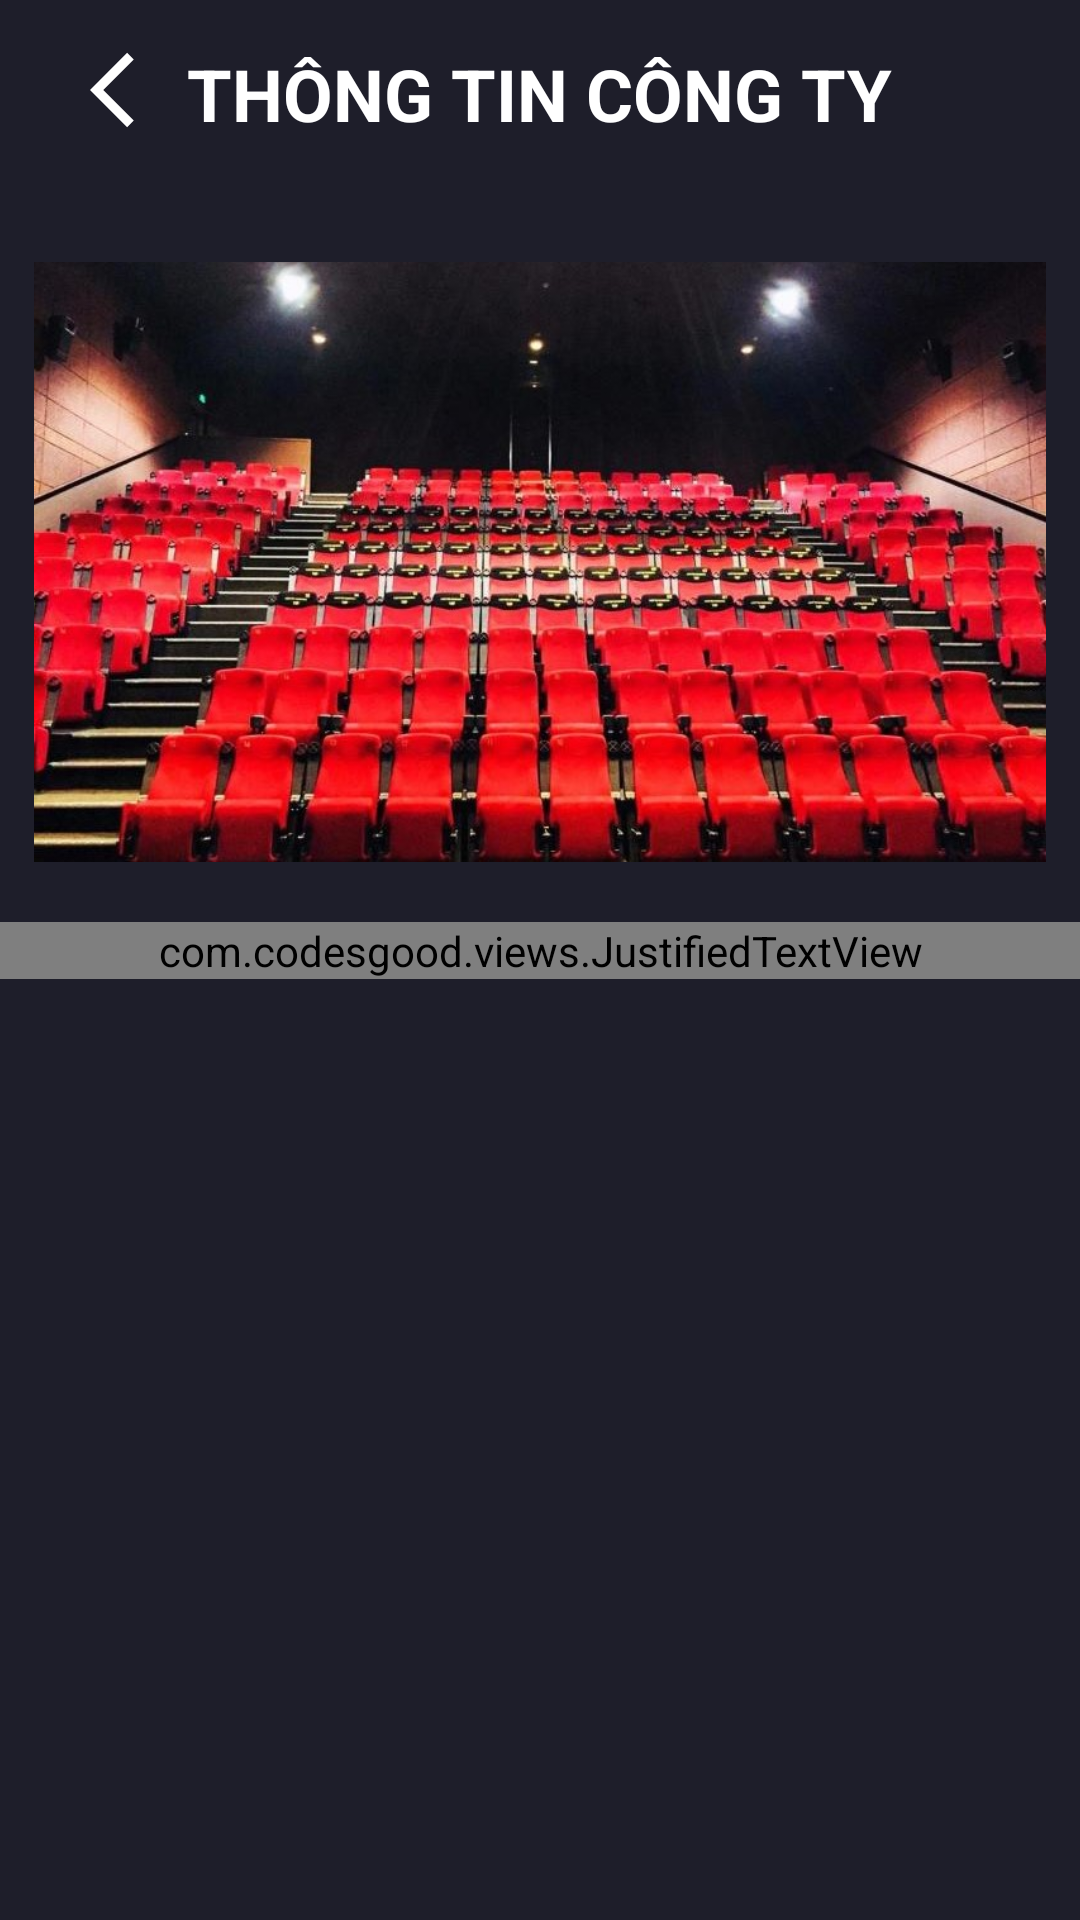

Icon click points for this 1080 × 1920 phone screenshot, format point (x, y):
back arrow: point (112, 90)
